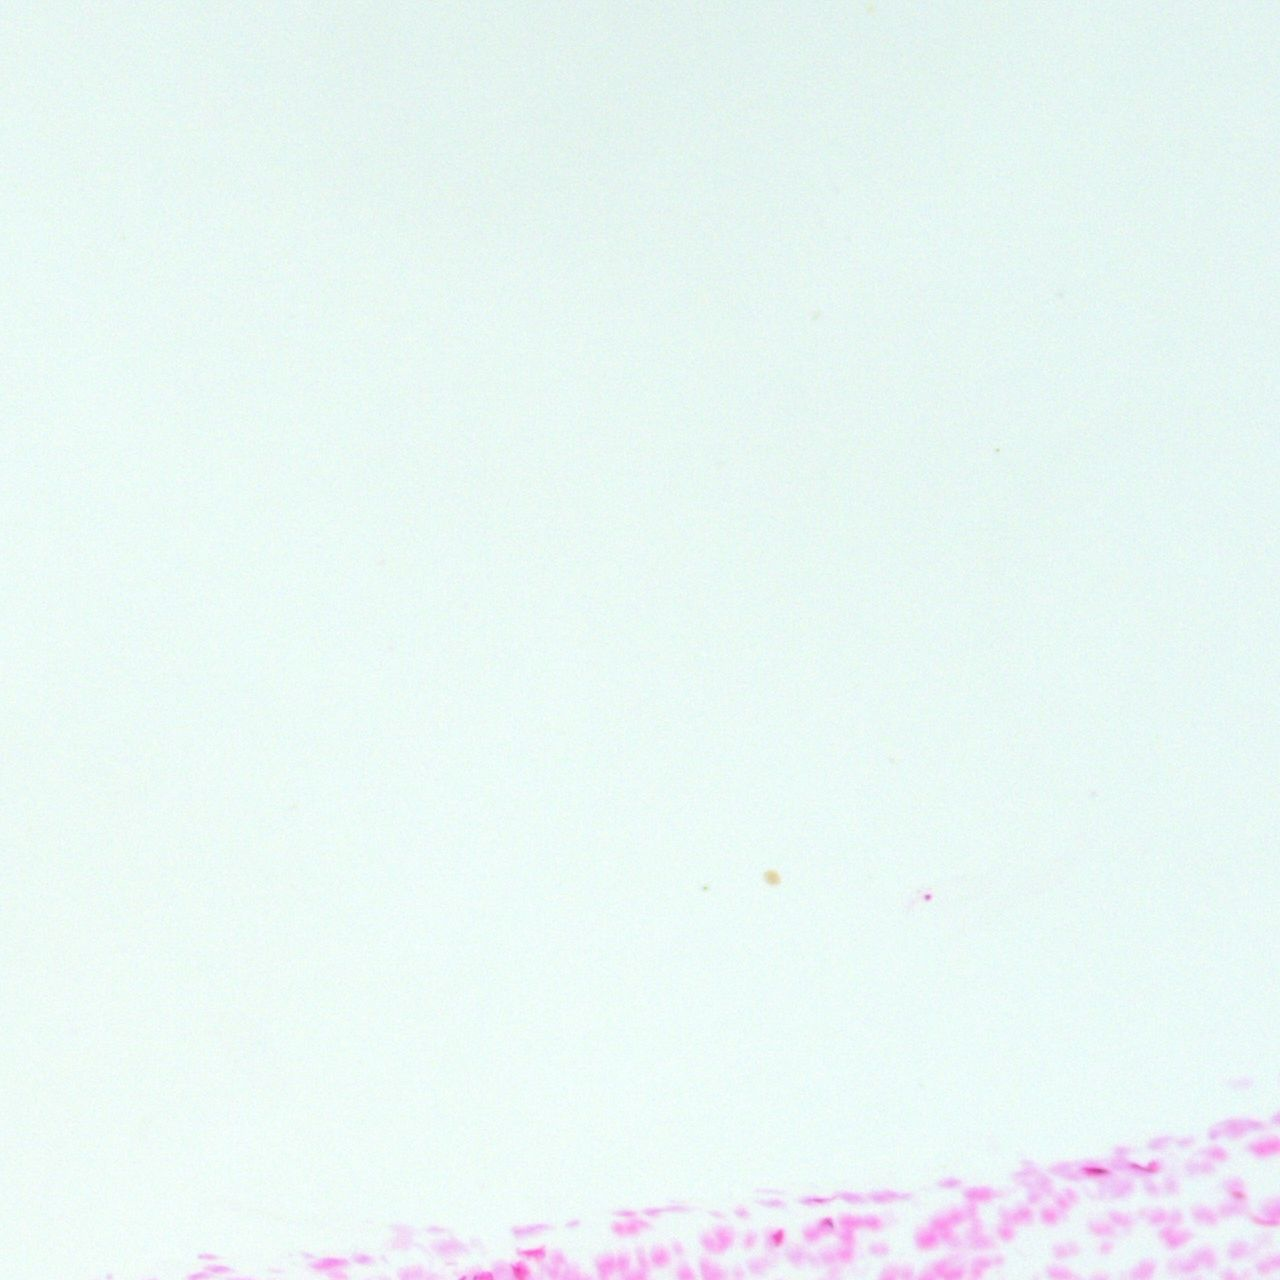nucleus-FG: (1130, 1159, 1159, 1175), (771, 1228, 785, 1247), (1082, 1166, 1109, 1176), (823, 1217, 835, 1228)
